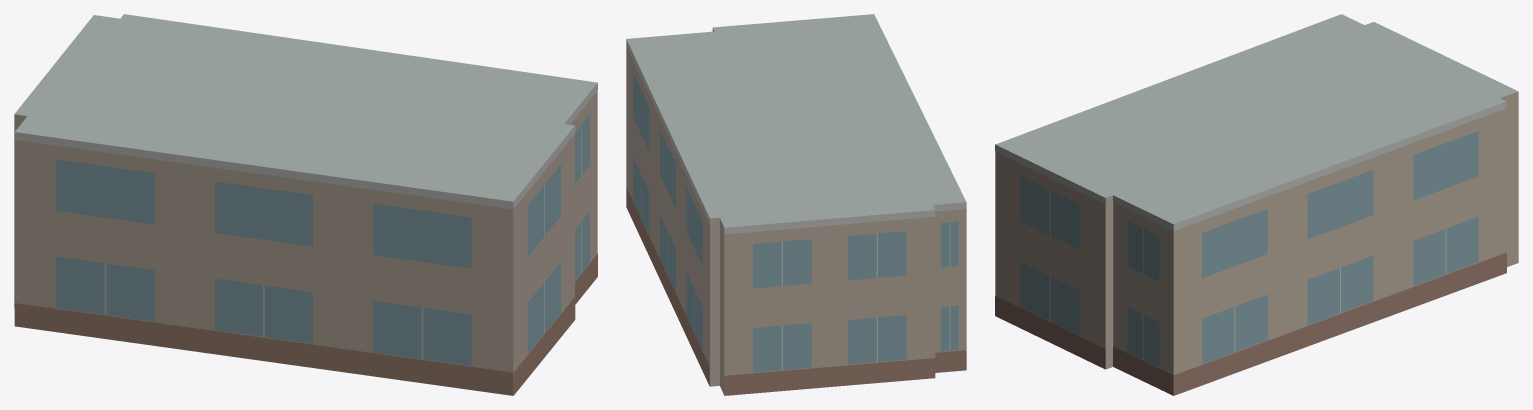
File: survey-upis-32773259.glb
3 renders of one model, left to right at view 1: azimuth 30°, elevation 25°; view 2: azimuth 150°, elevation 25°; view 3: azimuth 270°, elevation 25°, orthographic. The views are drawn at different scales.
Parts seen in each view (by area): view 1: survey-upis-32773259.tmp; view 2: survey-upis-32773259.tmp; view 3: survey-upis-32773259.tmp.
Part boxes in pixels (box(x1,y1,x2,y2)): survey-upis-32773259.tmp: box(14, 14, 597, 395); survey-upis-32773259.tmp: box(626, 14, 966, 395); survey-upis-32773259.tmp: box(995, 14, 1518, 395).
Size of the model in its own units: 16.05 by 6.1 by 16.88.
